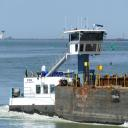tugboat: (9, 24, 119, 121)
